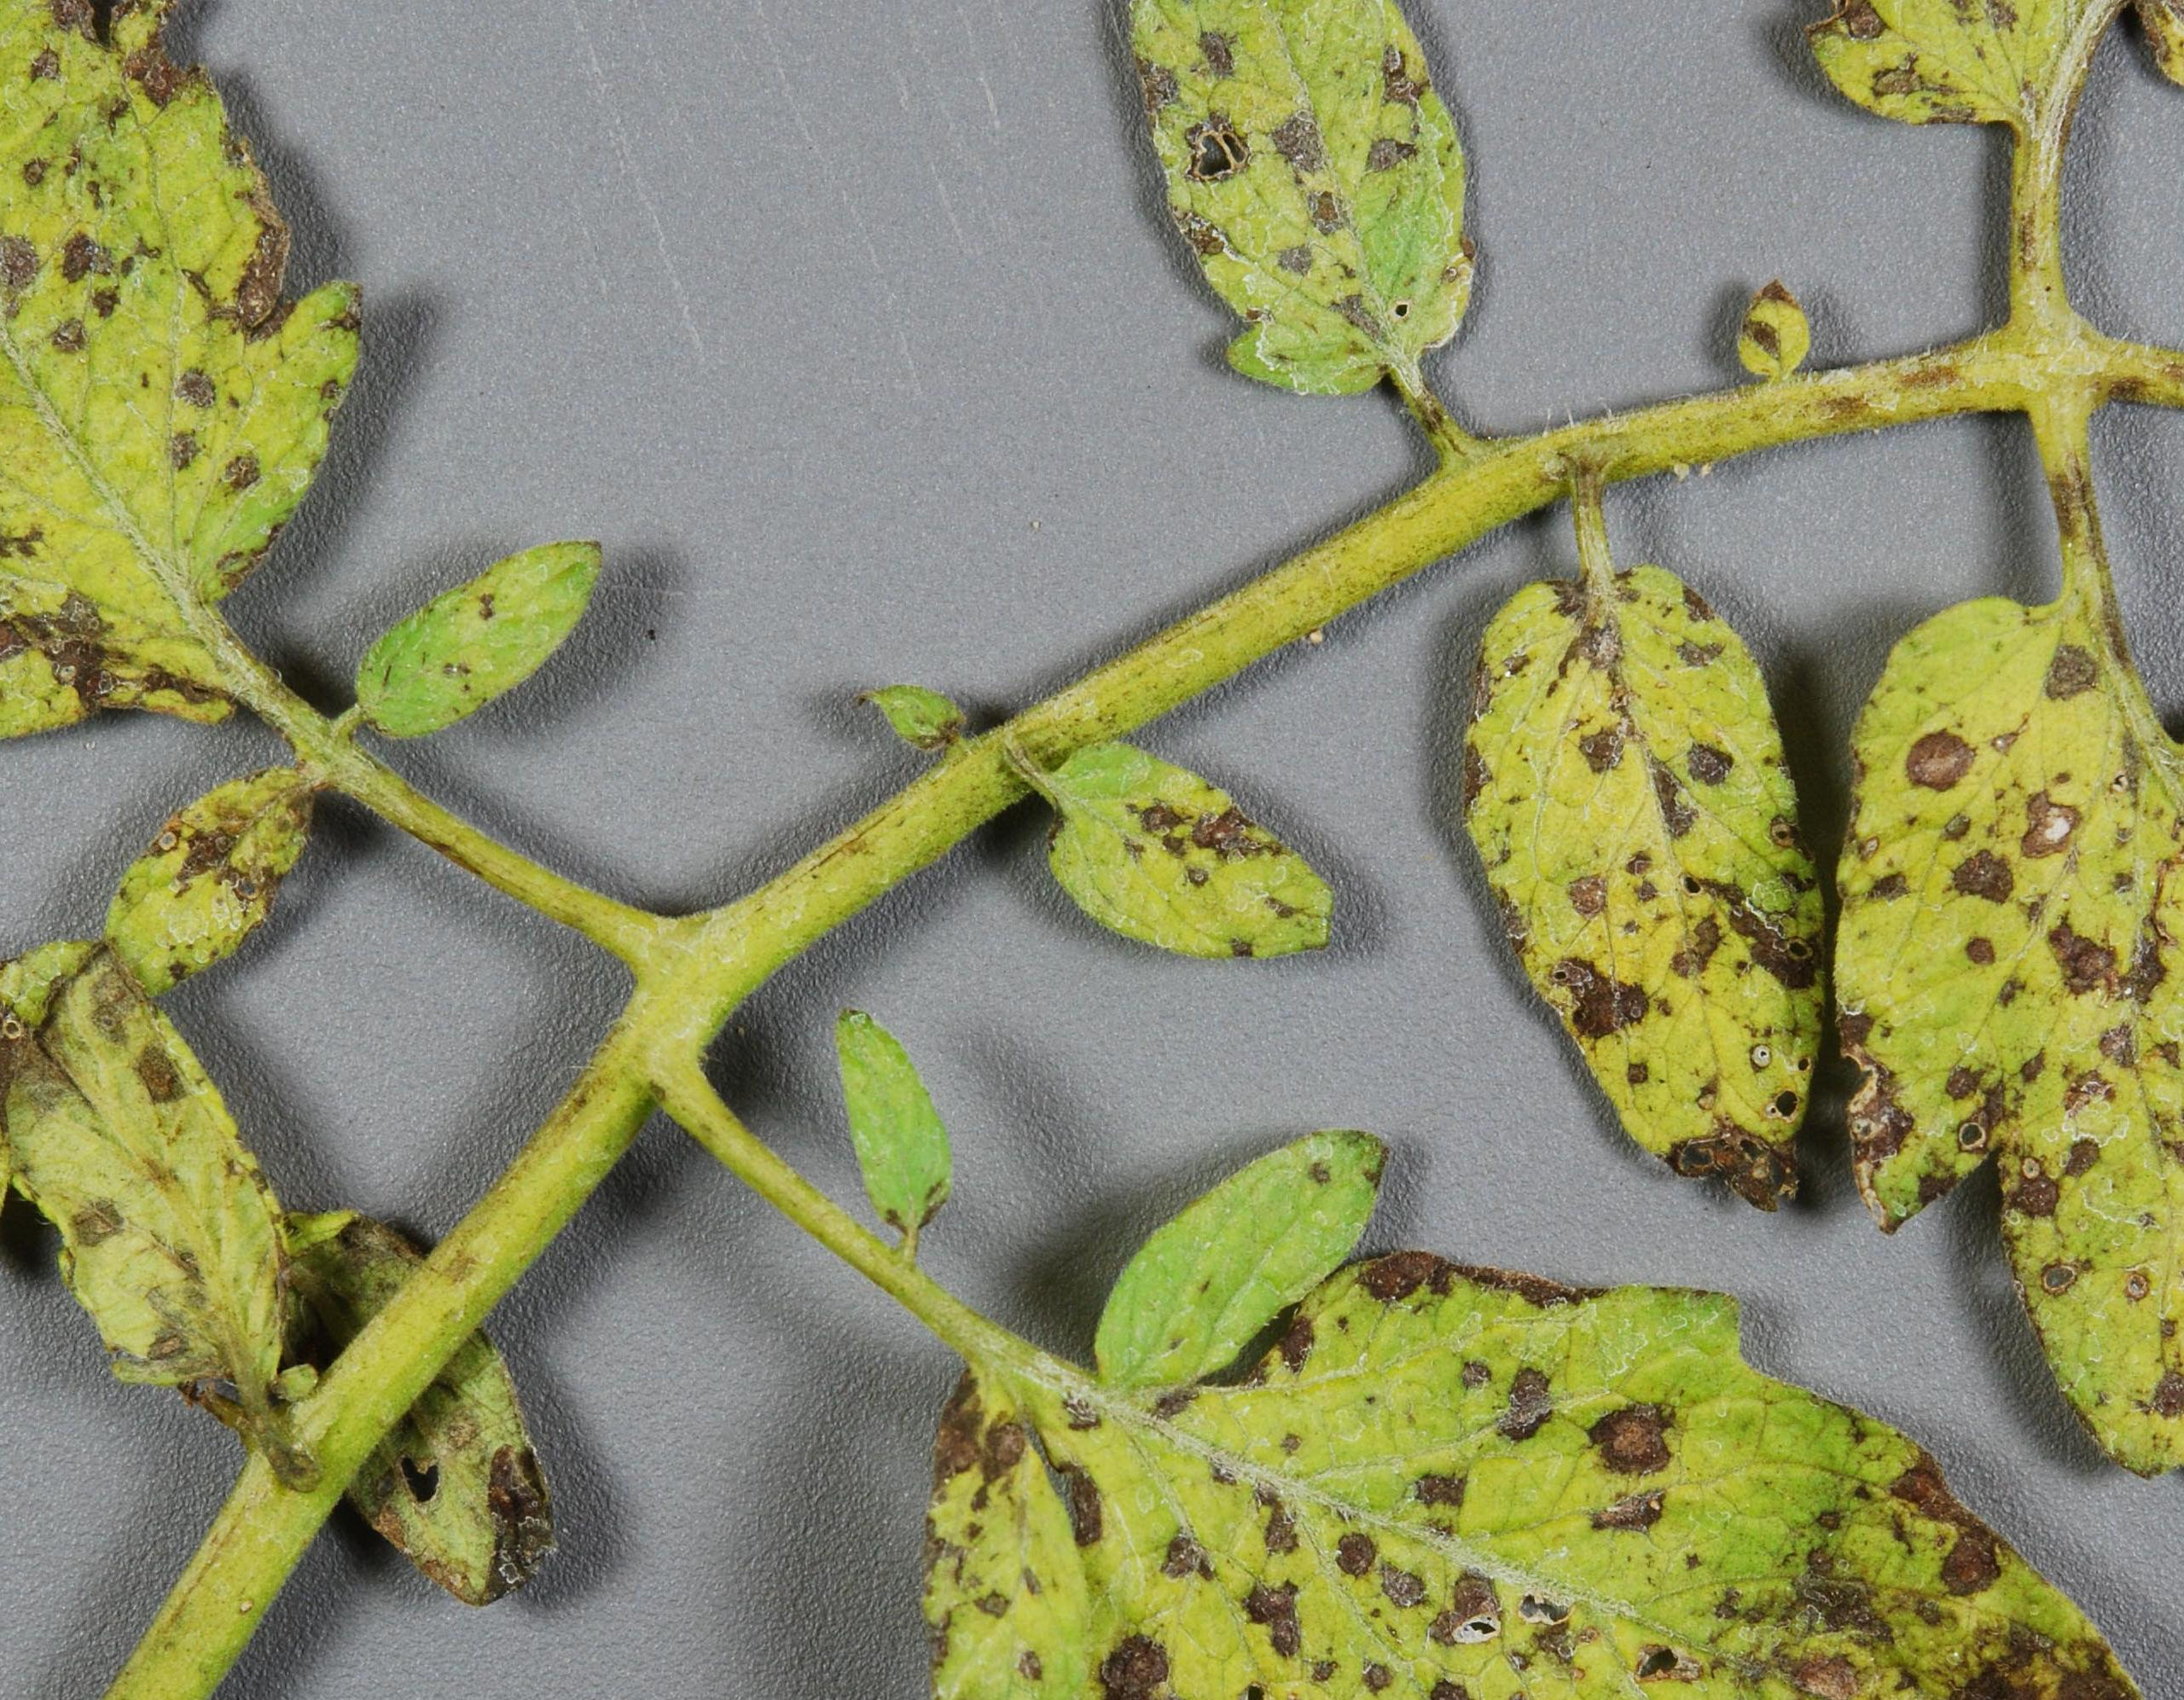Tomato Septoria leaf spot: (896, 1199, 2184, 1700), (1827, 502, 2184, 1700), (0, 0, 466, 837), (1465, 566, 1881, 1256), (1034, 0, 1561, 415), (0, 891, 293, 1478), (1015, 728, 1382, 1047)
